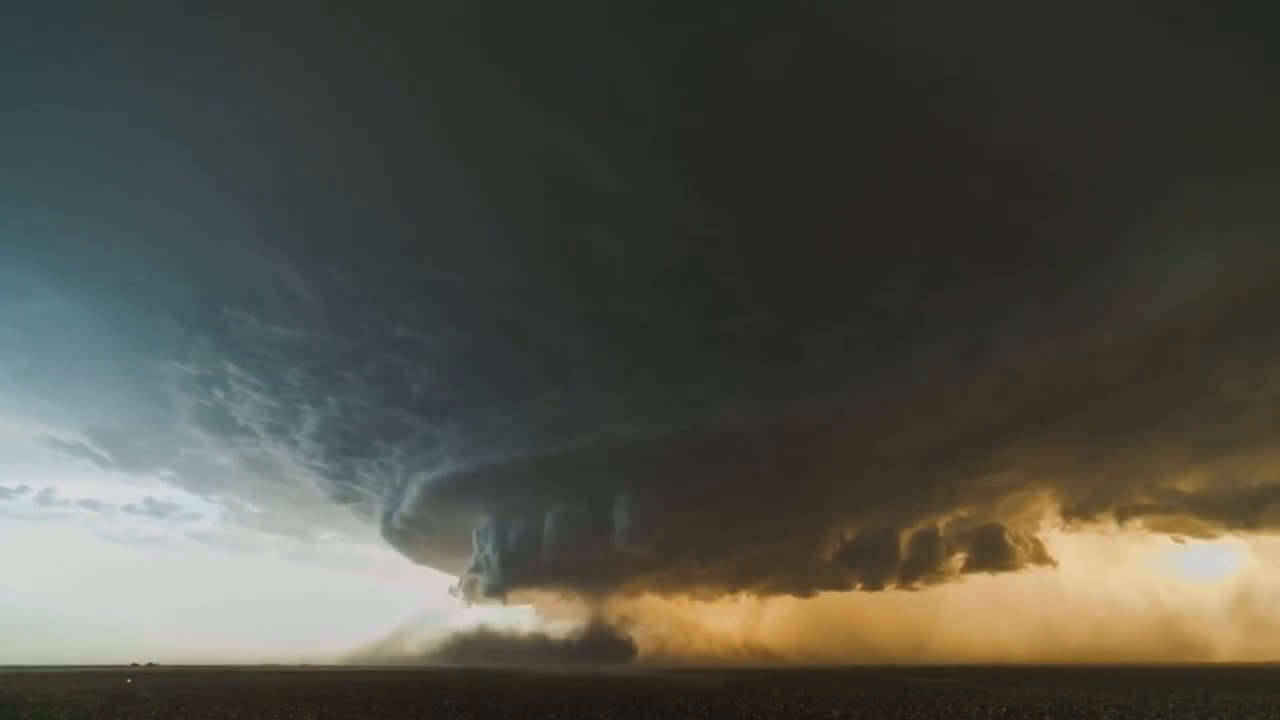FFD: (887, 538, 1279, 663)
RFD: (424, 591, 886, 664)
mesocyclone: (176, 2, 1279, 538)
striations: (375, 405, 804, 575)
wall cloud: (445, 492, 1058, 607)
